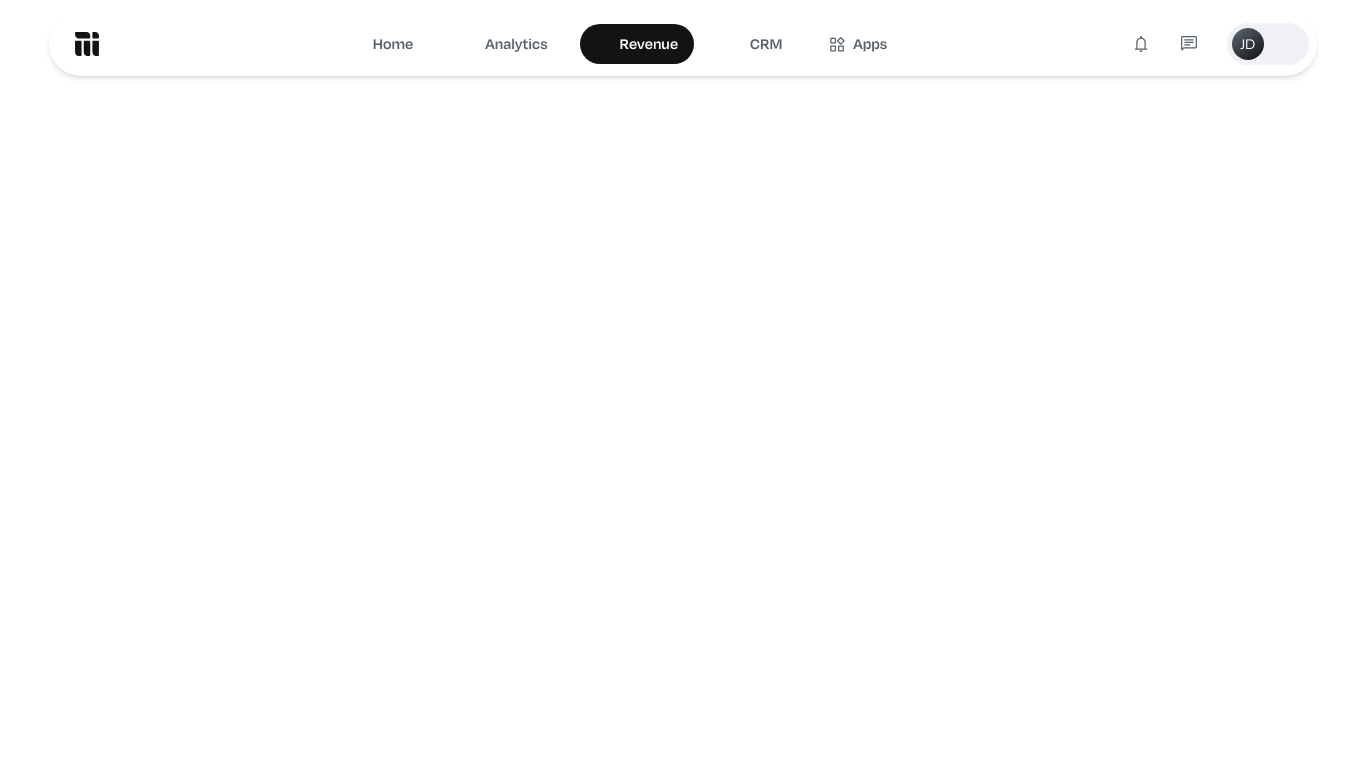
Test case: Nav › toggles menu when clicking user avatar
Expected: the text "Settings" is not shown
Click the text "JD".
click(1248, 44)  # box [1232,28,1264,60]
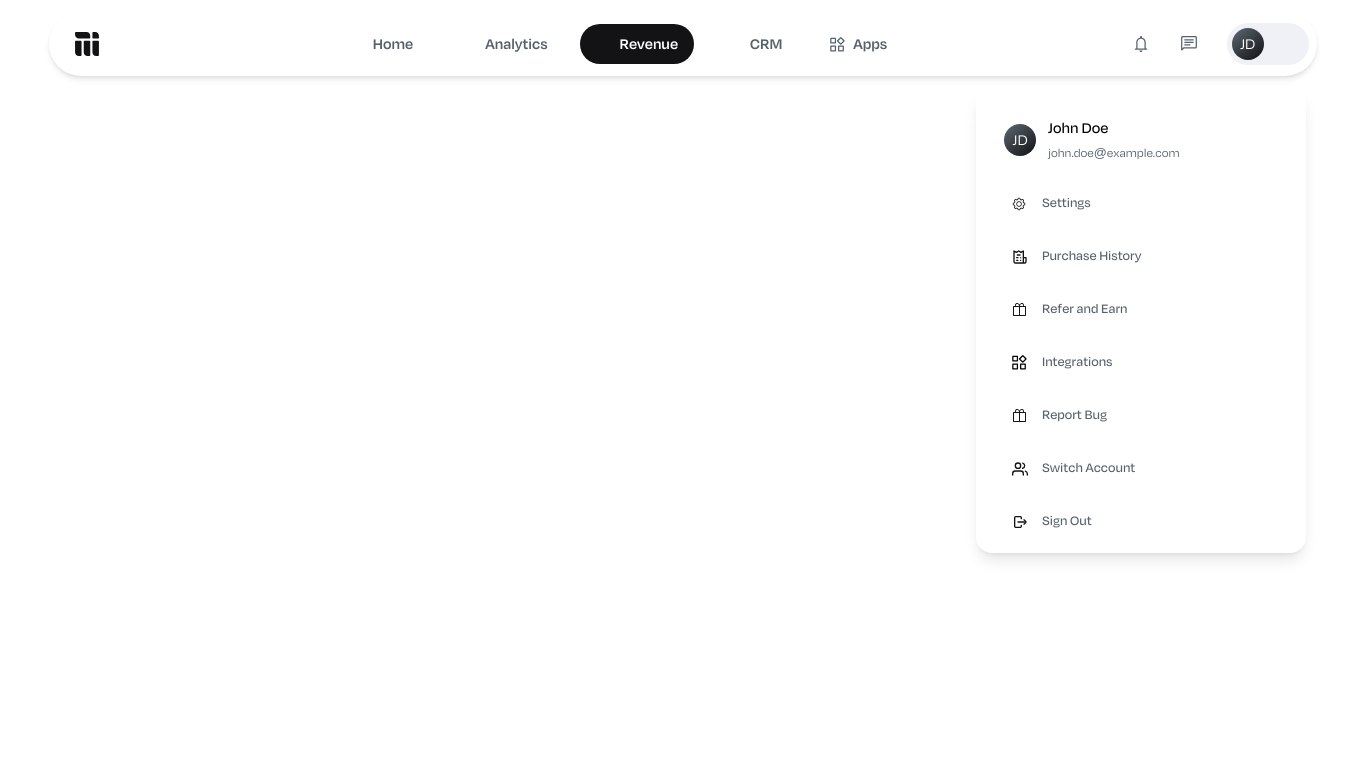
Now the text "Settings" is shown, box [1042,192,1091,213]
Now the text "Purchase History" is shown, box [1042,245,1141,266]
Now the text "Refer and Earn" is shown, box [1042,298,1128,319]
Click again to close menu
Click the text "JD" in the row of "Apps".
click(1248, 44)  # box [1232,28,1264,60]
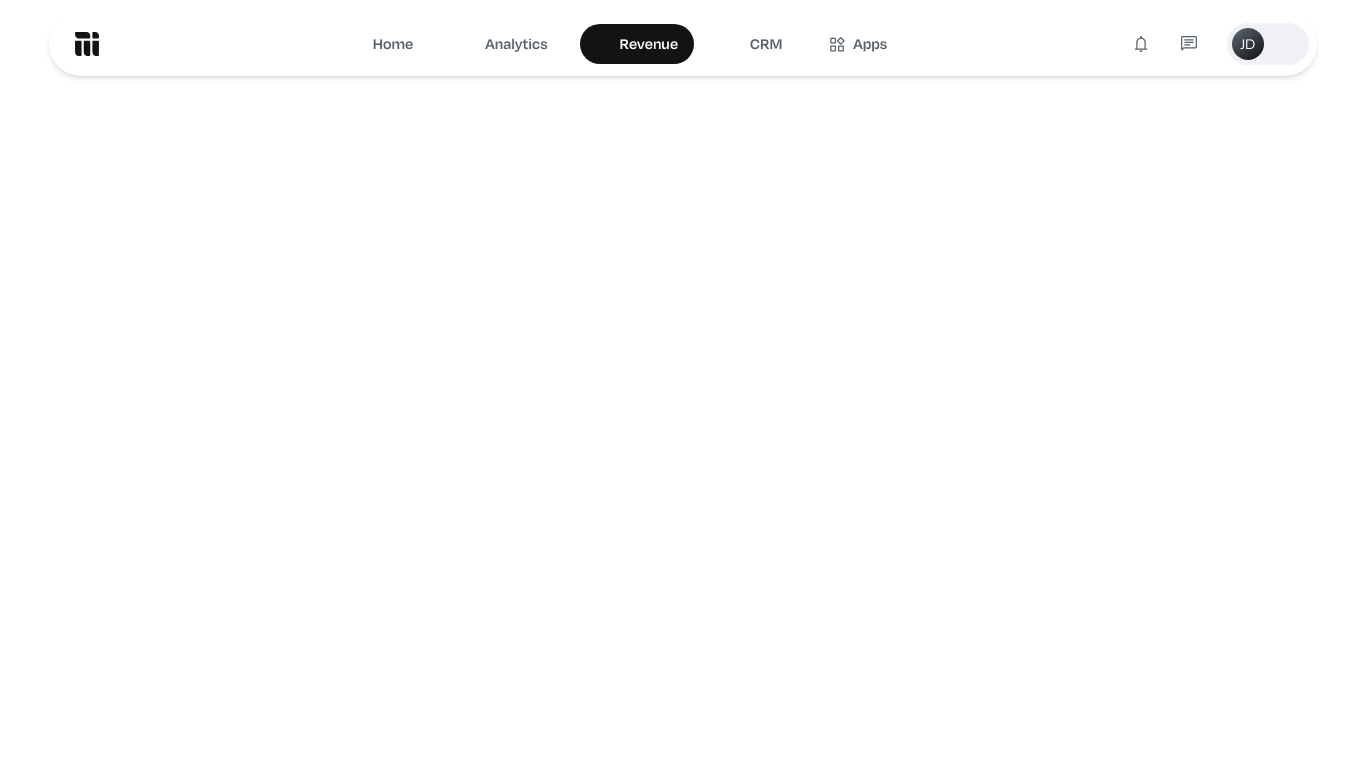
Now the text "Settings" is gone
